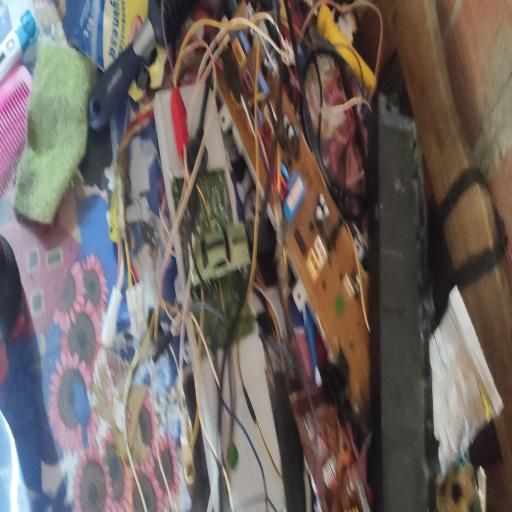Carrito: (192, 224, 250, 285)
